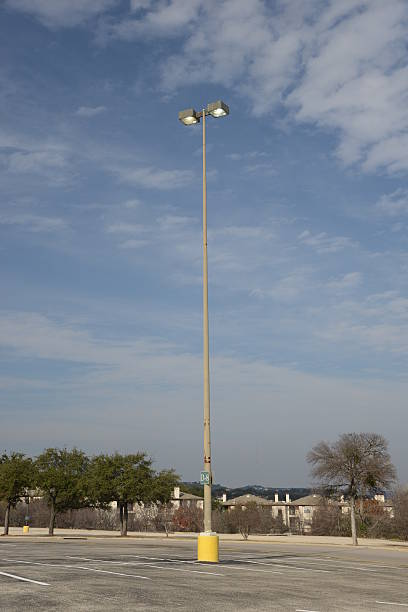light_pole: (198, 130, 219, 562)
